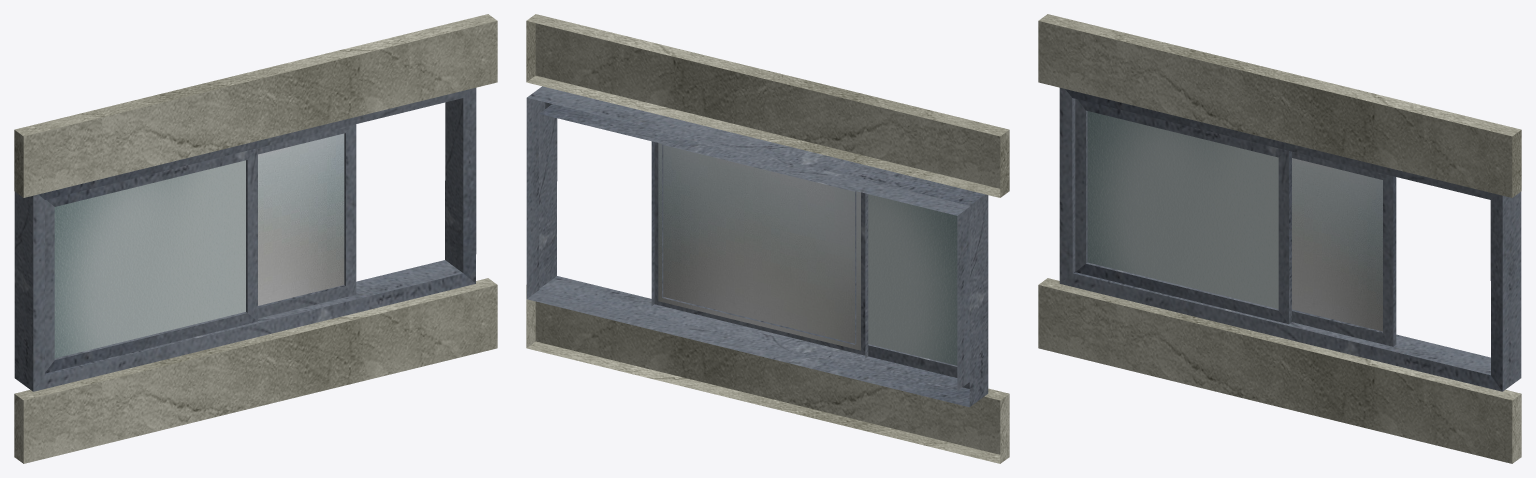
The model's file is Window_0.5m_002.fbx.
3 views of the same model, side by side, from view 1: azimuth 30°, elevation 25°; view 2: azimuth 150°, elevation 25°; view 3: azimuth 330°, elevation 25° (orthographic).
Parts seen in each view (by area): view 1: Window_0.5m_002; view 2: Window_0.5m_002; view 3: Window_0.5m_002.
Boxes of the visible parts, box(x1,y1,x2,y2) form: Window_0.5m_002: box(14, 14, 497, 463); Window_0.5m_002: box(526, 14, 1009, 463); Window_0.5m_002: box(1038, 14, 1521, 463).
Bounding box in the file's own units: 75.73 × 50 × 6.82.
Materials: 1 (1 with a texture image).
